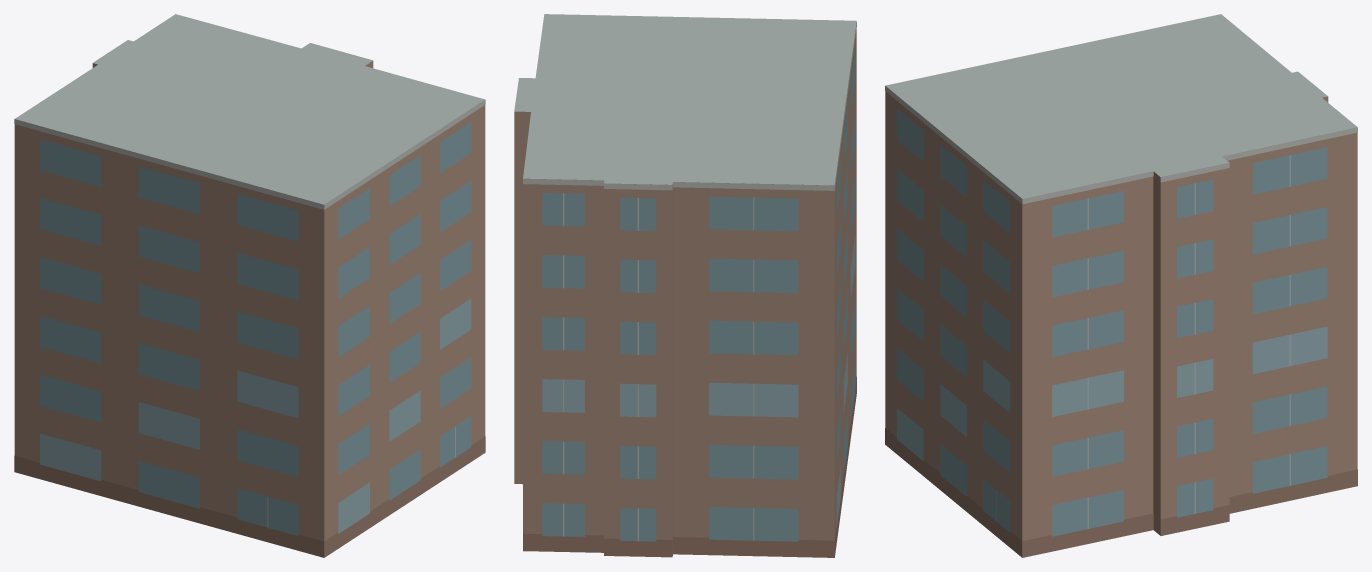
File: survey-upis-33019764.glb
The picture shows the model from 3 angles, left to right: view 1: azimuth 30°, elevation 25°; view 2: azimuth 150°, elevation 25°; view 3: azimuth 270°, elevation 25°; orthographic projection. The views are drawn at different scales.
Visible parts, largest first — view 1: survey-upis-33019764.tmp; view 2: survey-upis-33019764.tmp; view 3: survey-upis-33019764.tmp.
Boxes of the visible parts, bbox=[...] form: survey-upis-33019764.tmp: bbox=[14, 14, 485, 557]; survey-upis-33019764.tmp: bbox=[514, 14, 856, 557]; survey-upis-33019764.tmp: bbox=[885, 14, 1357, 557].
Bounding box in the file's own units: 18.36 × 16.6 × 19.83.
